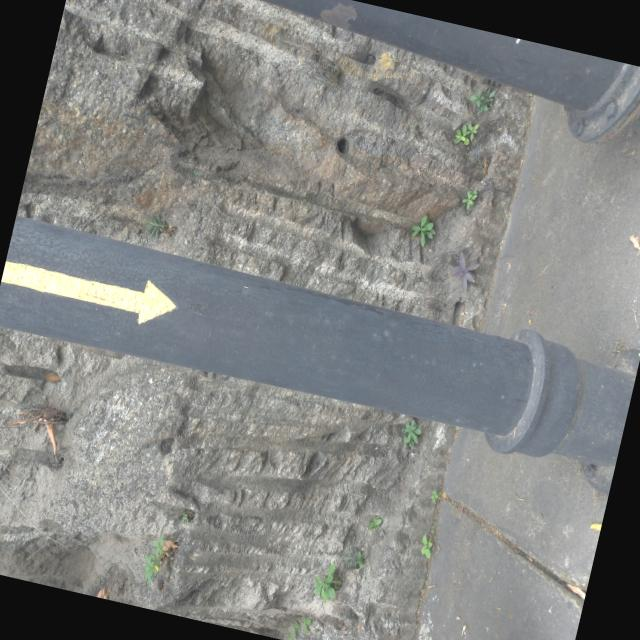gas: (0, 217, 636, 470)
